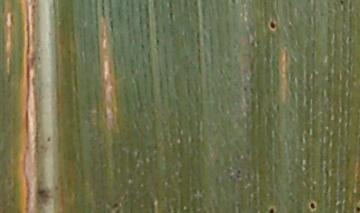tarspot: (265, 17, 277, 31), (307, 200, 317, 213), (265, 206, 277, 213), (354, 204, 360, 213)
